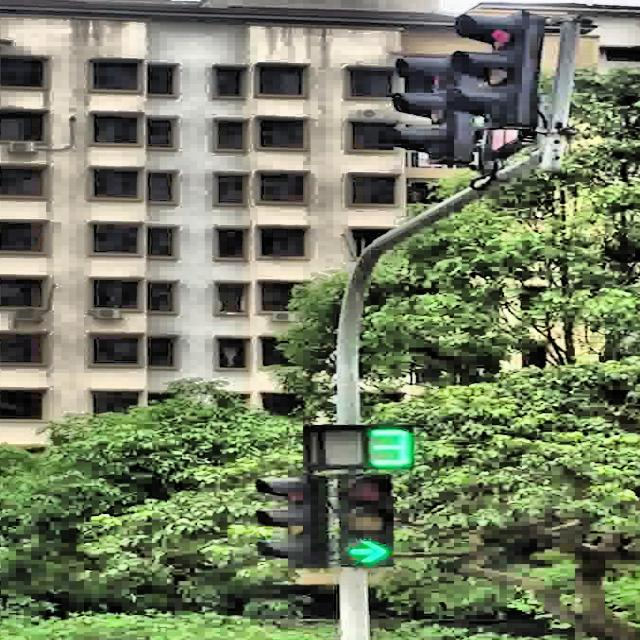green: (339, 474, 394, 568)
